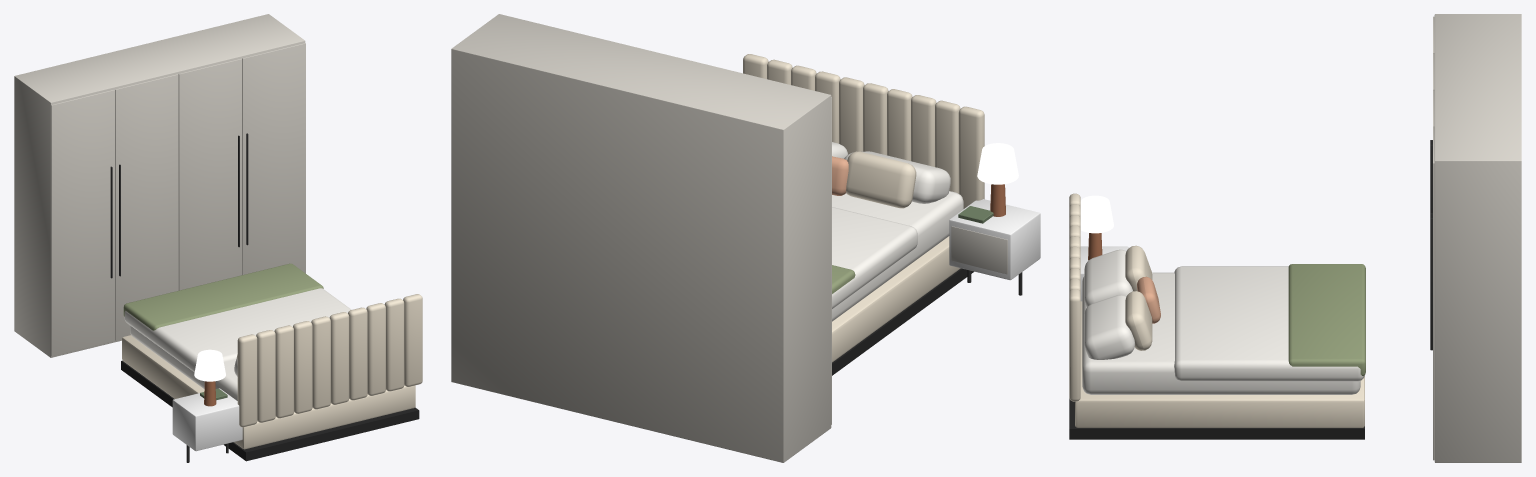
Rendered from mob_quarto.glb.
3 views of the same model, side by side, from view 1: azimuth 30°, elevation 25°; view 2: azimuth 150°, elevation 25°; view 3: azimuth 270°, elevation 25° (orthographic). The views are drawn at different scales.
Visible parts, largest first — view 1: mob_quarto_laca_off, mob_quarto_tecido_areia, mob_quarto_madeira; view 2: mob_quarto_laca_off, mob_quarto_tecido_areia, mob_quarto_madeira; view 3: mob_quarto_tecido_areia, mob_quarto_laca_off, mob_quarto_madeira.
Part boxes in pixels (x1,y1,x2,y2): mob_quarto_laca_off: (14,14,305,357); mob_quarto_tecido_areia: (121,263,422,461); mob_quarto_madeira: (172,349,242,462); mob_quarto_laca_off: (451,14,831,462); mob_quarto_tecido_areia: (743,54,984,375); mob_quarto_madeira: (949,143,1040,295); mob_quarto_tecido_areia: (1069,193,1365,439); mob_quarto_laca_off: (1430,14,1521,462); mob_quarto_madeira: (1080,195,1128,301).
Bounding box in the file's own units: 2.47 × 2.3 × 3.12.
